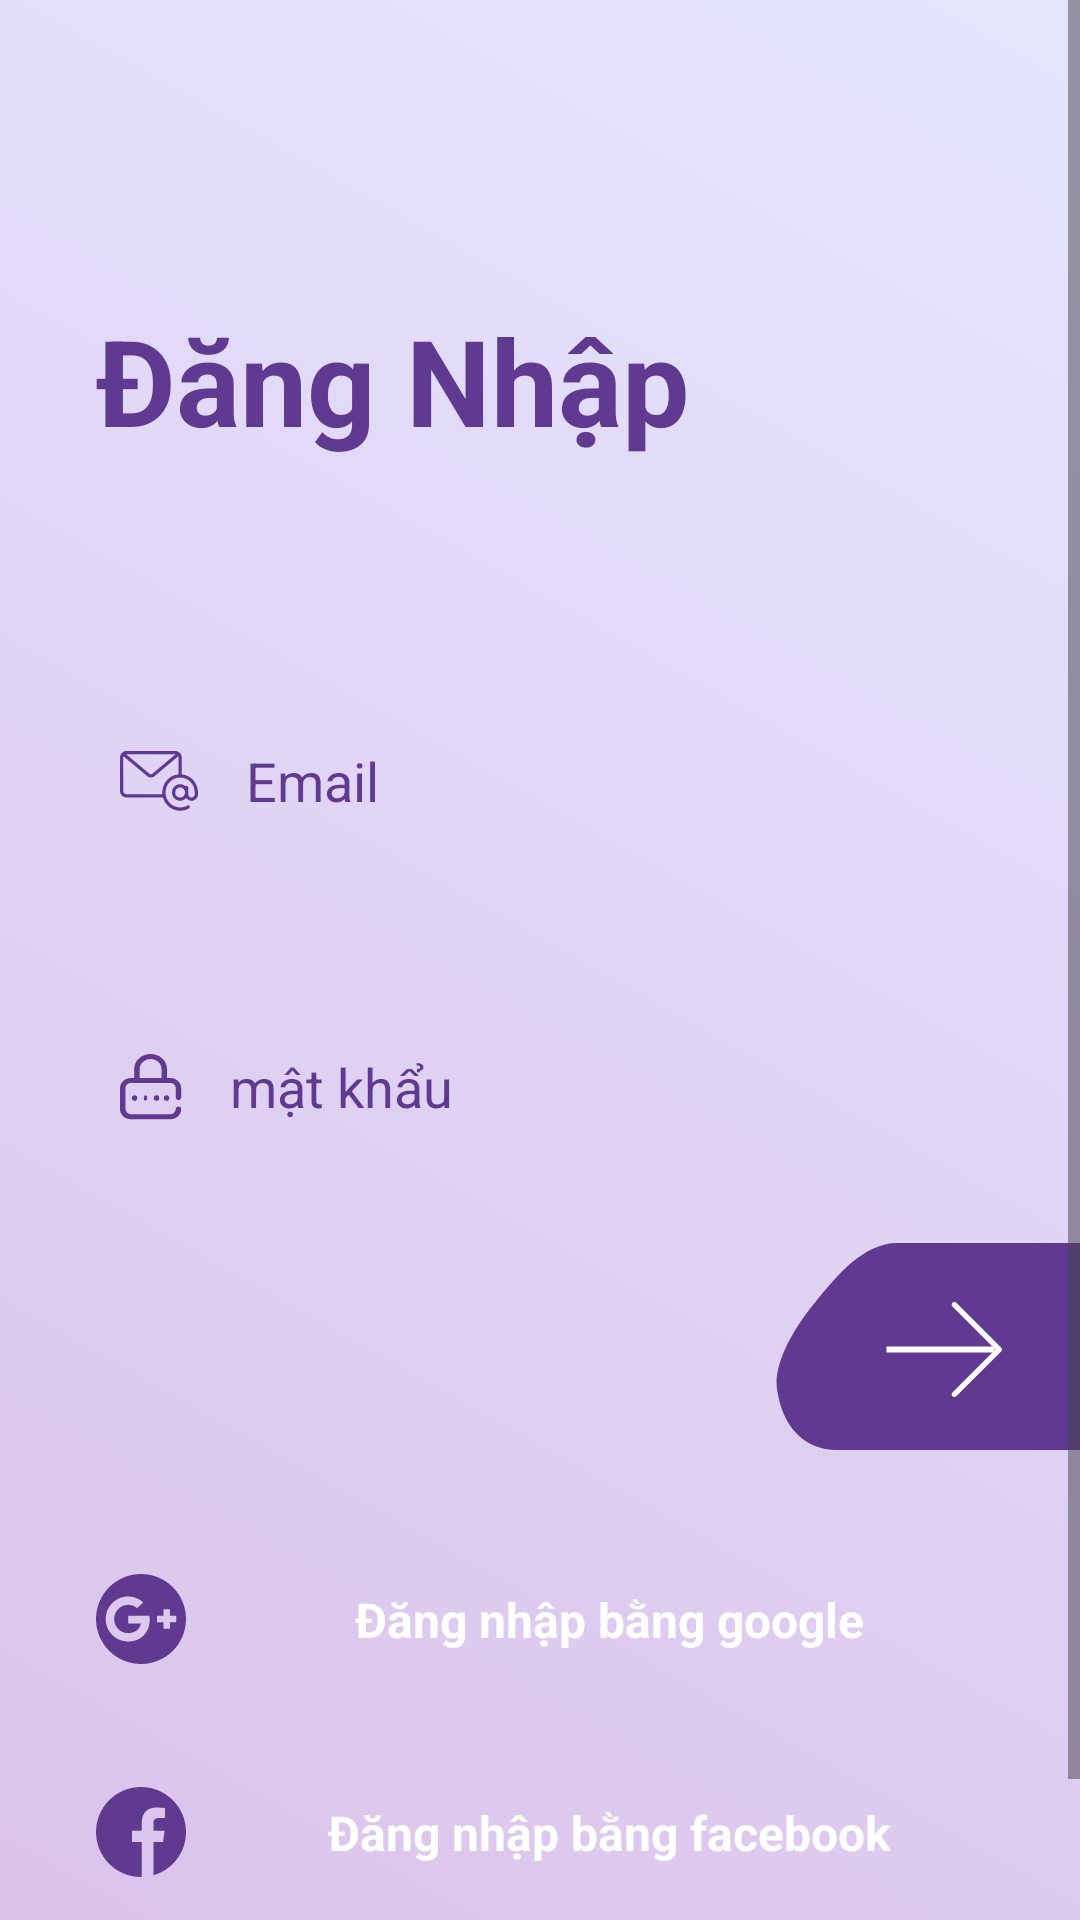

Named icons in this screenshot (1080px×1920px) and their bounding boxes, (left=x1, top=y1, right=x2, bottom=y2):
login: (left=776, top=1210, right=1080, bottom=1489)
